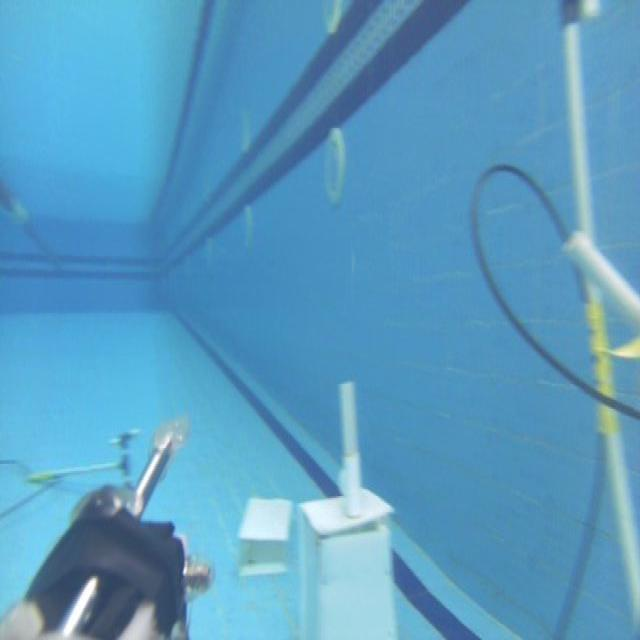Cube: (300, 494, 398, 640)
Cuboid: (236, 492, 293, 576)
